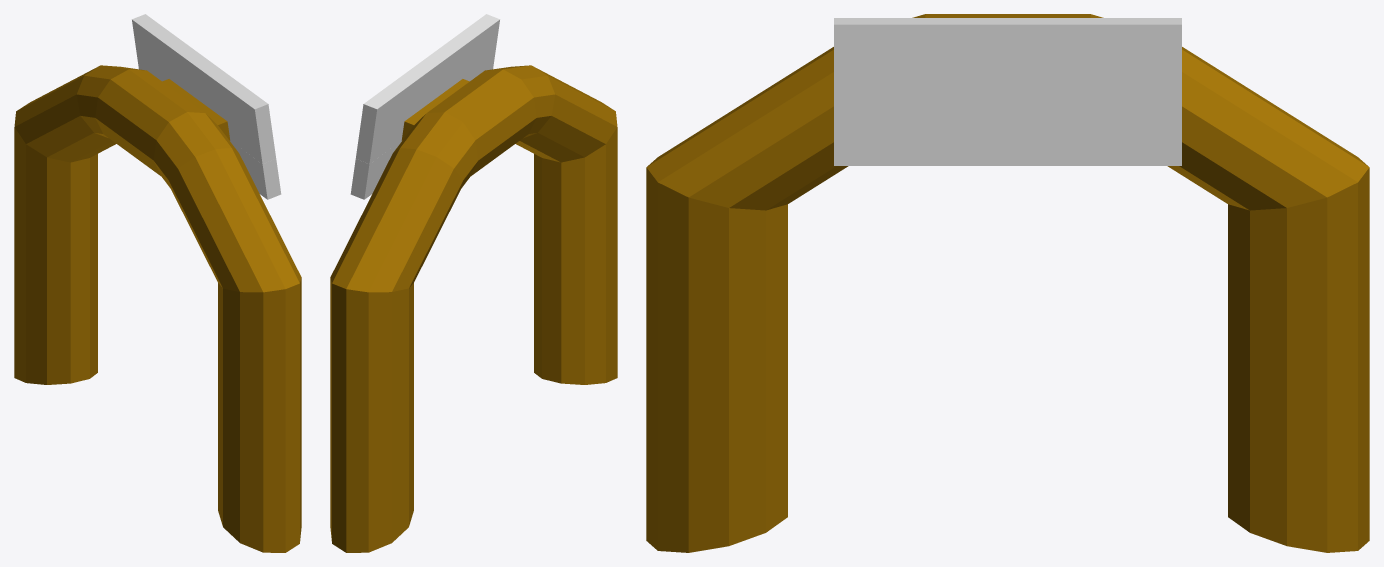
Rendered from Gate_MiniJam74Models.fbx.
3 views of the same model, side by side, from view 1: azimuth 30°, elevation 25°; view 2: azimuth 150°, elevation 25°; view 3: azimuth 270°, elevation 25° (orthographic). The views are drawn at different scales.
Parts seen in each view (by area): view 1: Gate; view 2: Gate; view 3: Gate.
Boxes of the visible parts, <box> form: Gate: <box>14,14,301,552</box>; Gate: <box>330,14,617,552</box>; Gate: <box>646,14,1369,552</box>.
Size of the model in its own units: 150 by 583 by 694.
